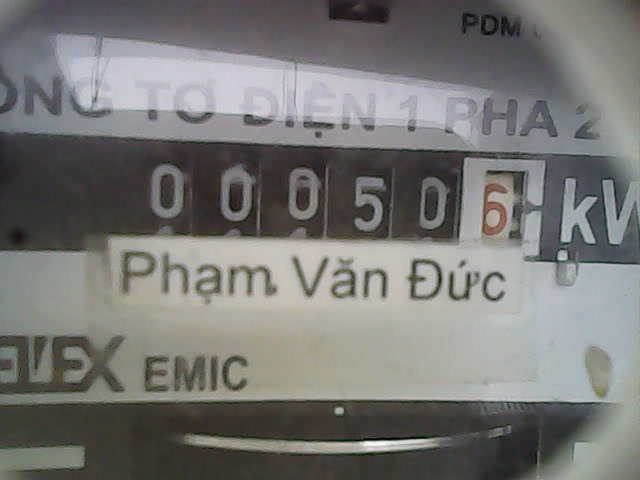phy_plate: (130, 139, 548, 270)
